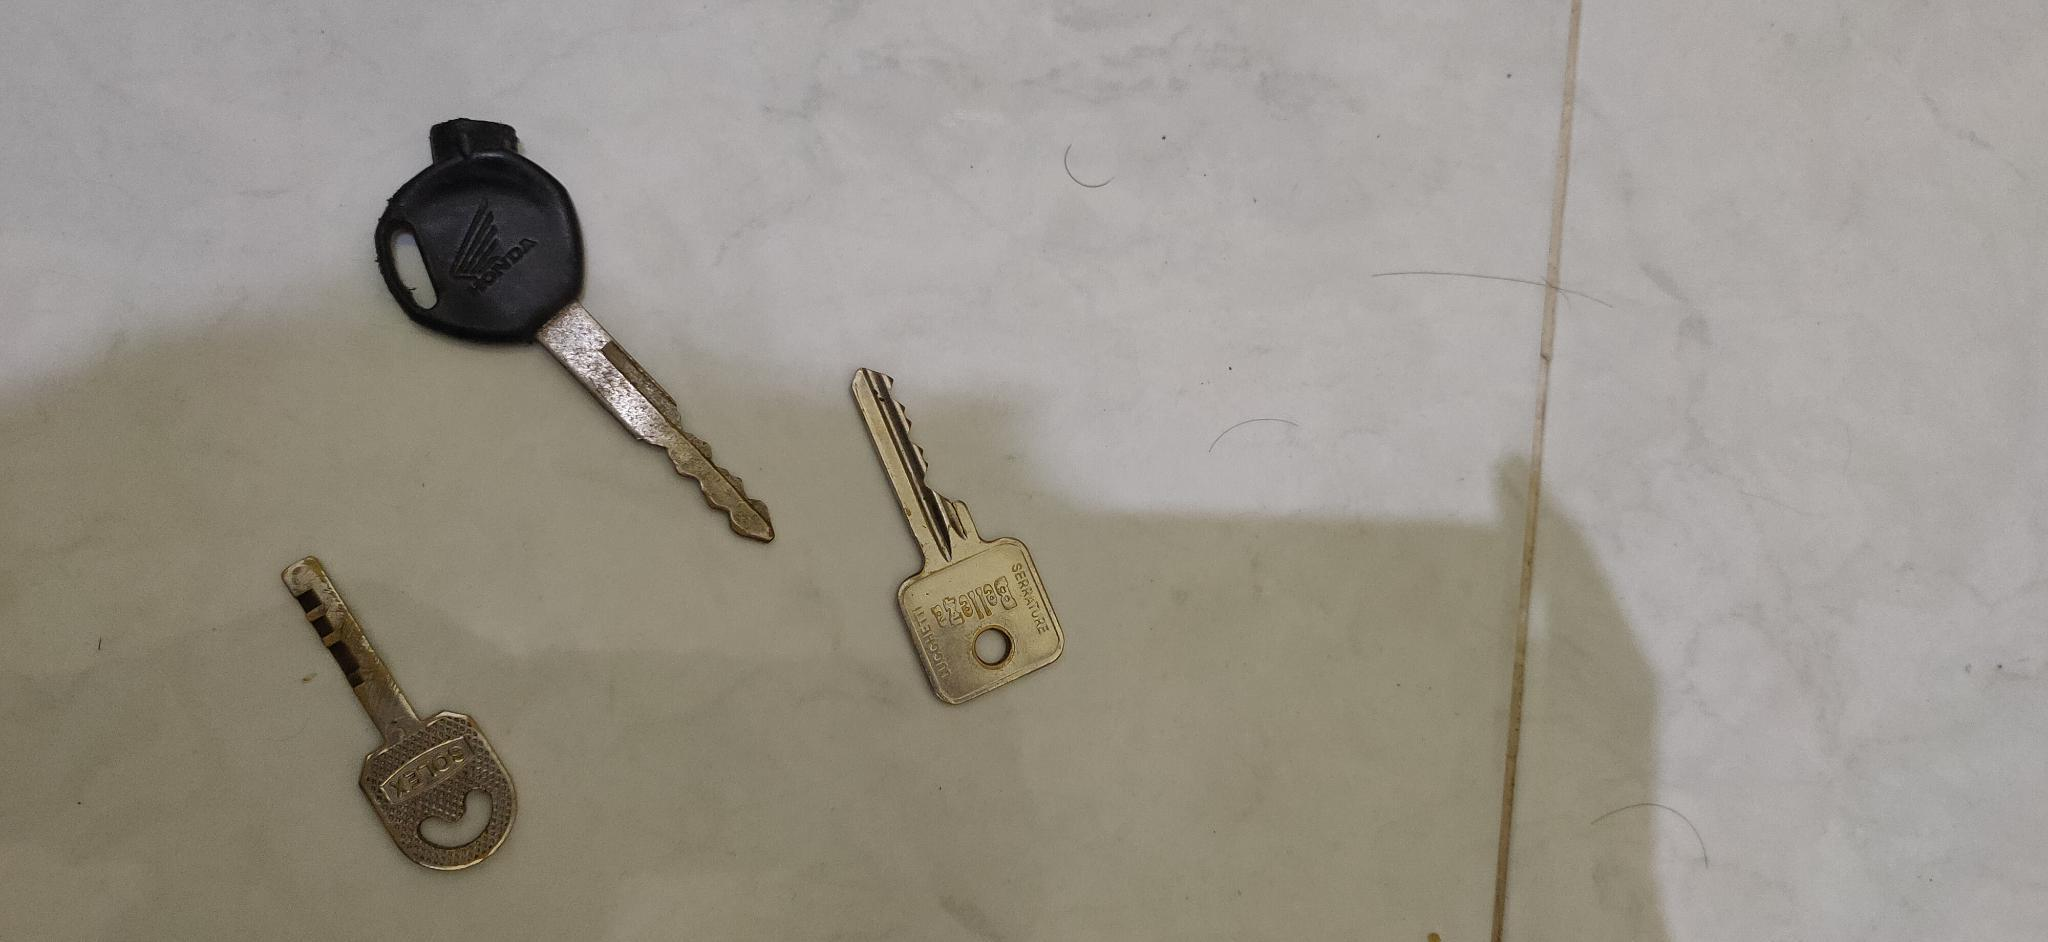keys: (375, 108, 795, 557), (270, 546, 528, 892), (839, 366, 1075, 717)
